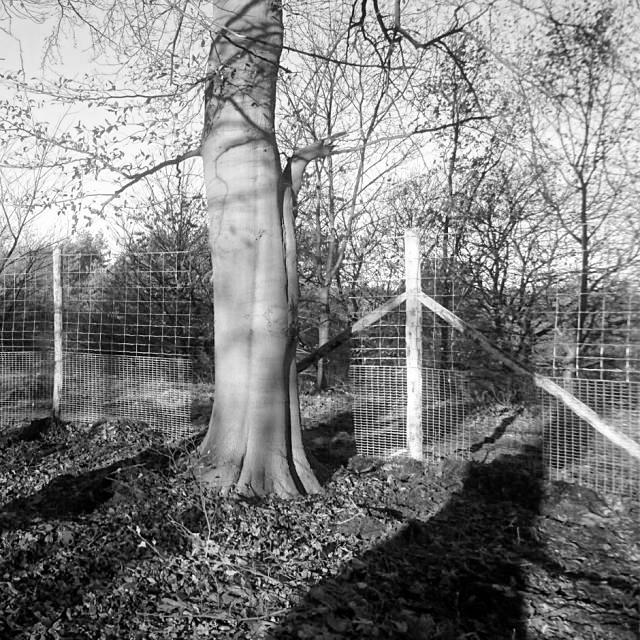fences: (326, 241, 640, 463), (4, 253, 201, 414)
